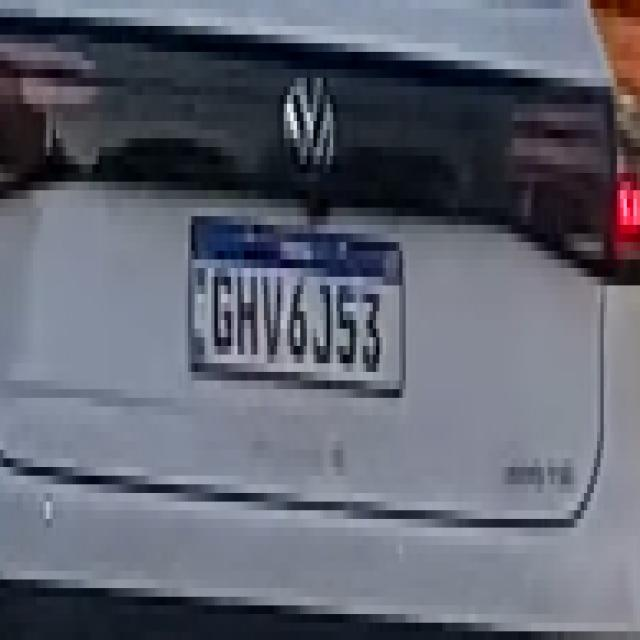Placa_mercosul_carro: (190, 215, 405, 393)
